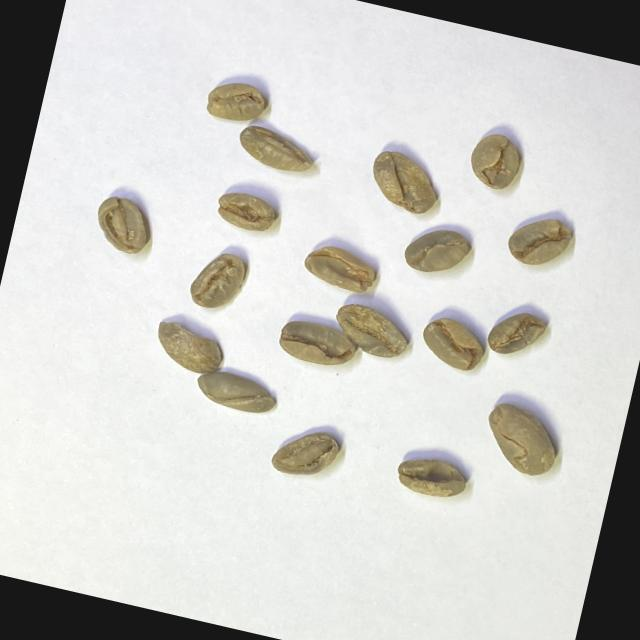bad: (476, 398, 566, 482), (363, 144, 447, 219), (328, 298, 416, 364), (148, 315, 230, 379), (267, 420, 343, 486), (502, 208, 578, 274), (232, 121, 319, 178), (299, 238, 382, 297), (414, 312, 490, 376), (274, 316, 360, 372), (192, 365, 280, 419), (184, 245, 250, 316), (88, 190, 156, 258), (400, 220, 474, 282), (392, 449, 472, 505), (463, 128, 526, 195), (484, 304, 550, 364), (202, 74, 270, 128), (210, 187, 280, 237)
